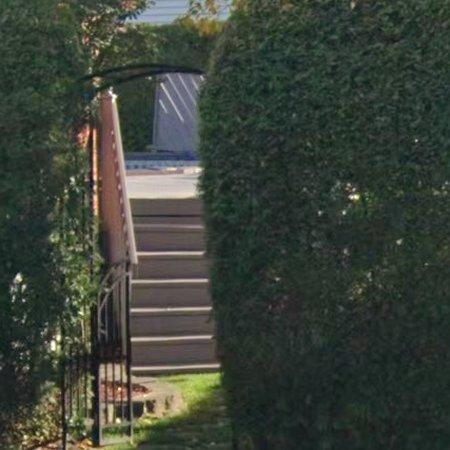stairs: (131, 198, 220, 375)
